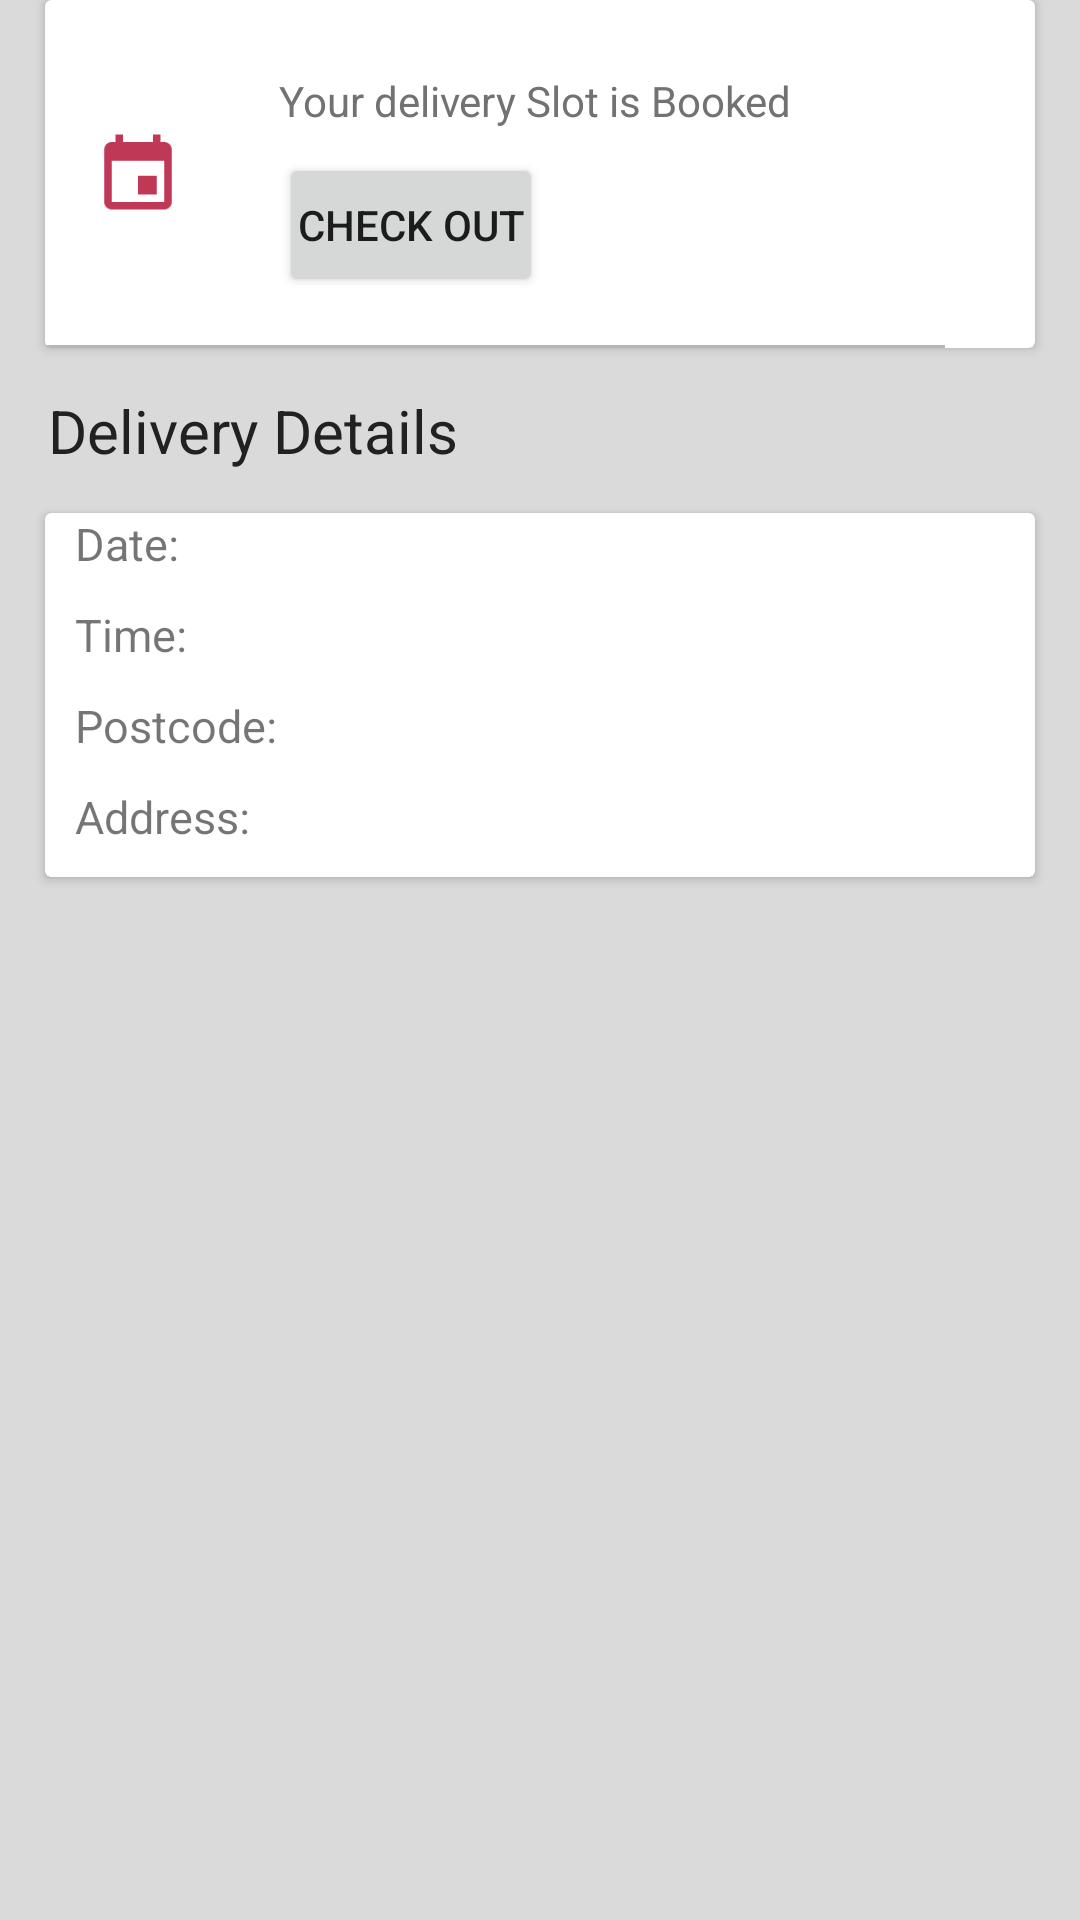

Where icons sit on this 1080x1920 app screen, as (x1,y1,x2,y2):
date: (104,134,172,210)
